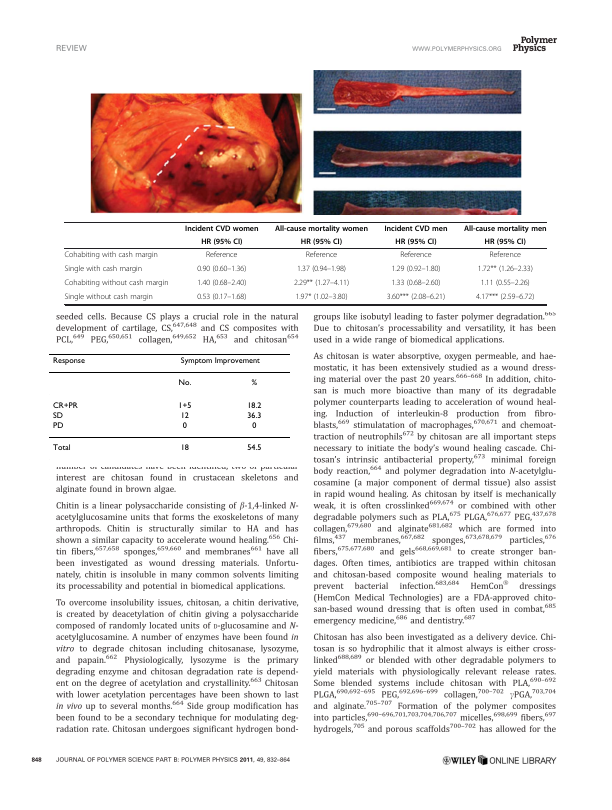borderless: (63, 220, 546, 304), (47, 352, 291, 461)
cell: (63, 278, 169, 288), (63, 250, 159, 260), (64, 292, 154, 302), (274, 224, 369, 233), (63, 264, 143, 274), (463, 224, 547, 233), (179, 357, 260, 366), (184, 224, 259, 233), (386, 292, 446, 302), (475, 292, 535, 302), (383, 224, 448, 233), (477, 264, 534, 274), (293, 278, 350, 288), (294, 292, 348, 302), (196, 264, 247, 274), (296, 264, 347, 274), (390, 264, 441, 274), (196, 278, 247, 288), (390, 278, 441, 288), (480, 278, 531, 288), (196, 292, 247, 302), (200, 237, 243, 247), (300, 237, 343, 247), (394, 237, 437, 247), (484, 237, 527, 247), (399, 250, 433, 260), (488, 250, 522, 260), (205, 250, 238, 260), (305, 250, 338, 260), (51, 357, 85, 366), (51, 401, 78, 411), (51, 444, 71, 453), (246, 401, 262, 411), (246, 411, 262, 421), (177, 401, 192, 411), (246, 444, 262, 453), (177, 379, 192, 388), (51, 411, 63, 421), (51, 422, 64, 431), (179, 411, 189, 421), (179, 444, 189, 453), (250, 379, 258, 388), (181, 422, 187, 431), (251, 422, 257, 431)
